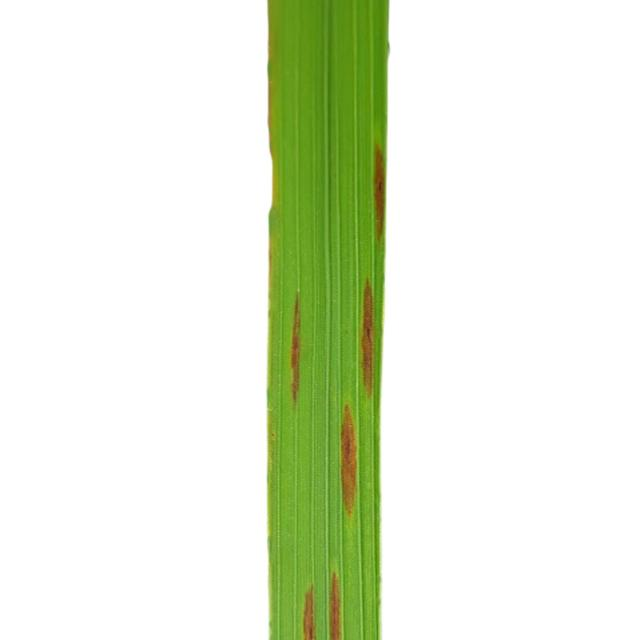Narrow brown: (184, 3, 494, 640)
